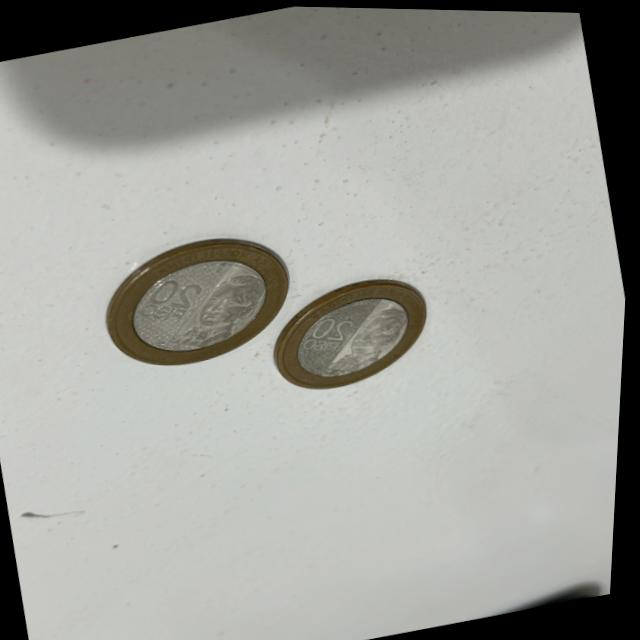20_New_Front: (131, 264, 215, 327), (295, 302, 362, 357)
